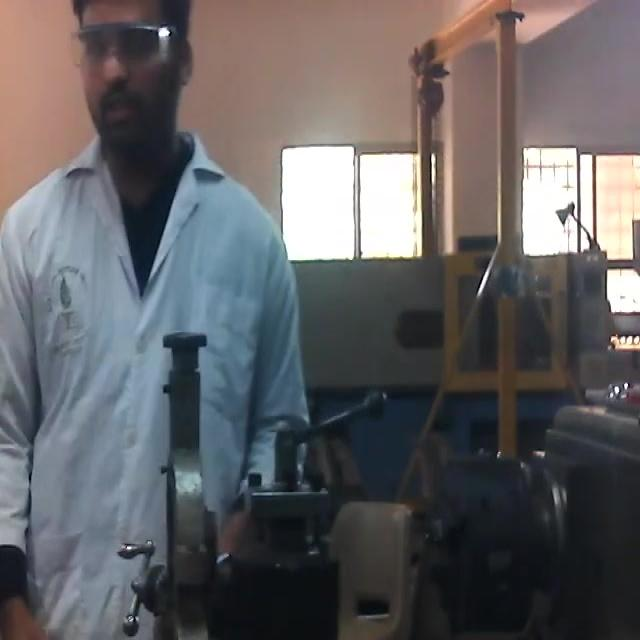googles: (70, 22, 171, 76)
labcoat: (0, 113, 312, 639)
